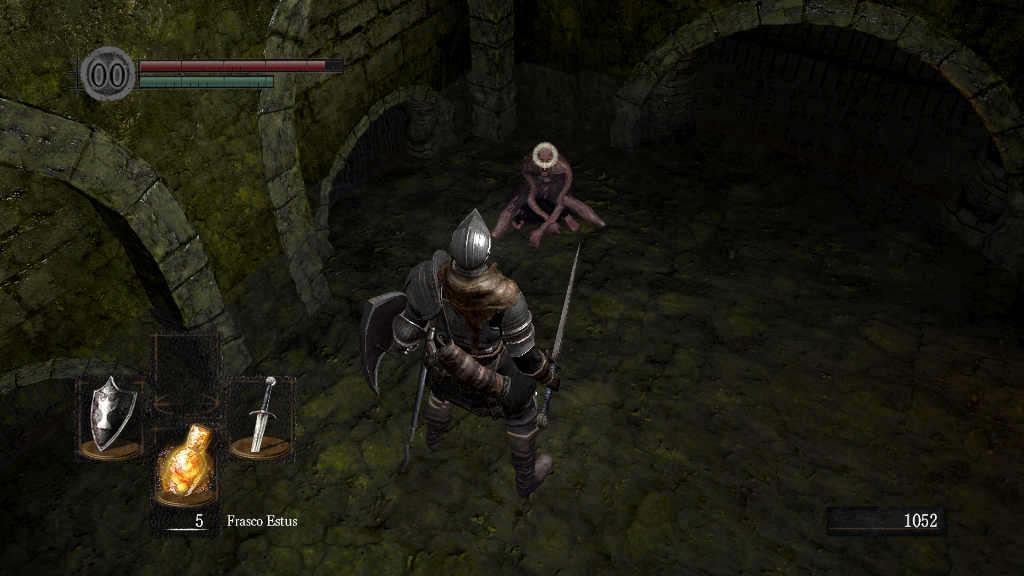health: (138, 58, 343, 71)
hollow: (493, 142, 610, 247)
humanity: (80, 45, 136, 102)
player: (357, 208, 583, 497)
souls: (825, 506, 945, 536)
stamina: (138, 74, 274, 88)
